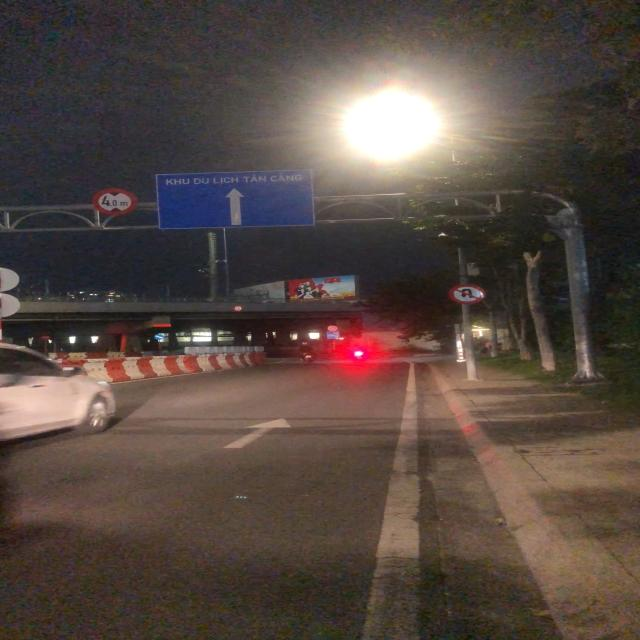Bien bao cam quay dau xe: (446, 282, 486, 306)
Bien bao han che chieu cao: (90, 185, 138, 216)
